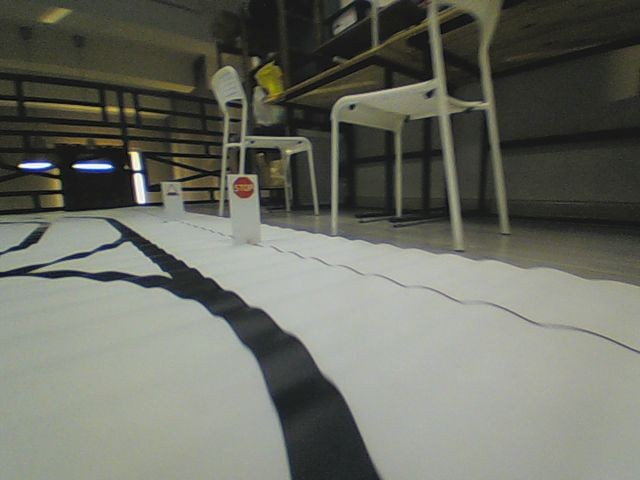Stop: (232, 175, 255, 199)
